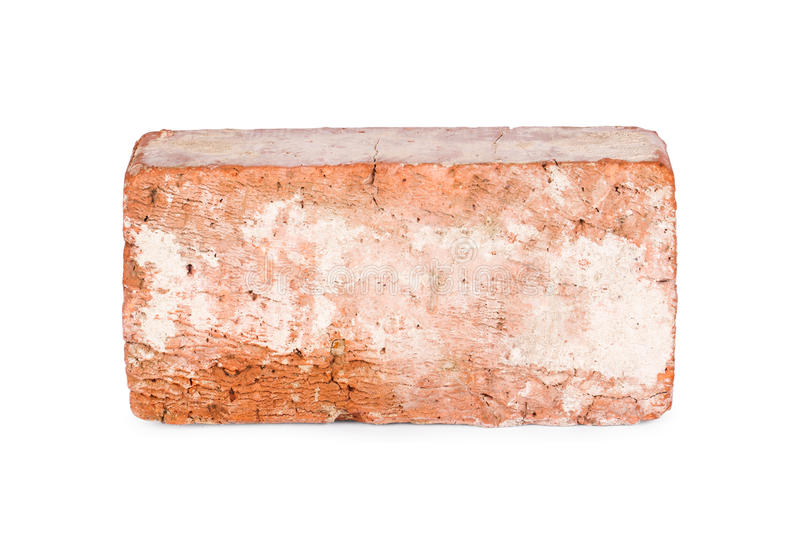brick: (126, 129, 673, 421)
